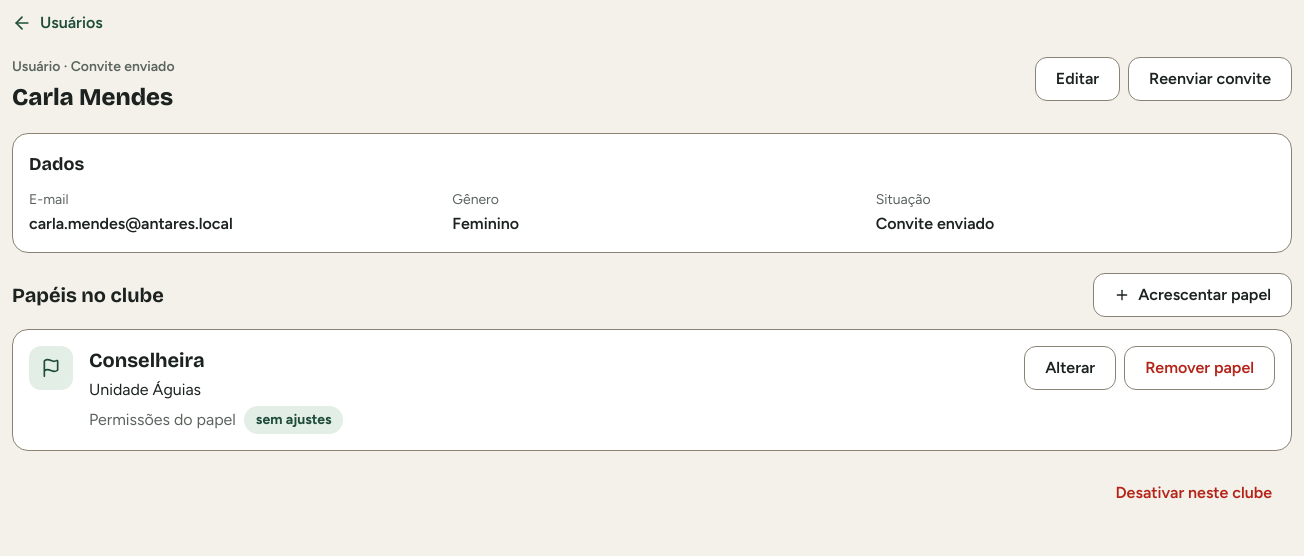
ficha do usuário › convidado: Editar e Reenviar convite no cabeçalho; ativo: nenhum dos dois
Check: the link "Editar" is shown, box left=1035, top=57, right=1120, bottom=101
Step 1. Click the button "Reenviar convite" → [1210, 79], box left=1128, top=57, right=1292, bottom=101
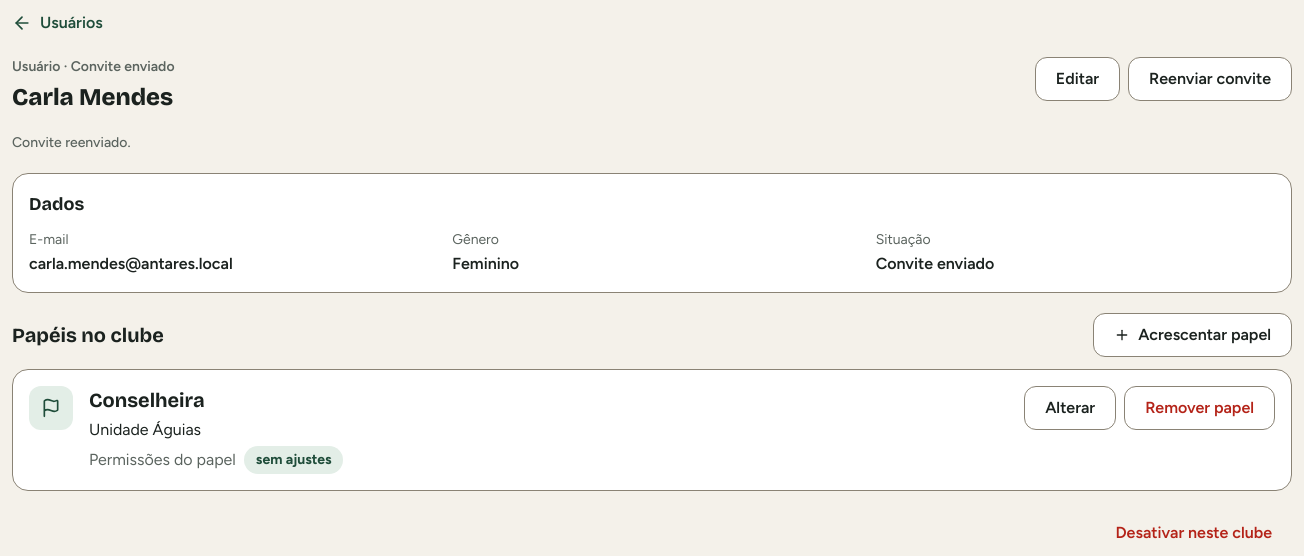
Check: the text "Convite reenviado." is shown, box left=12, top=134, right=130, bottom=151
